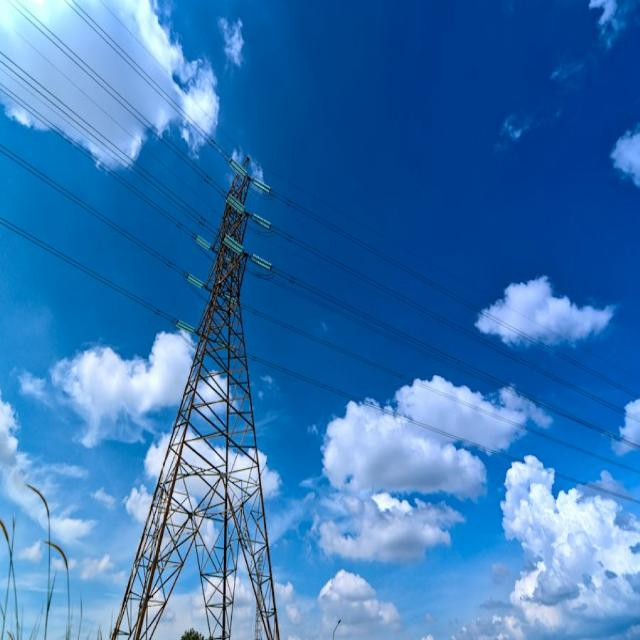transmission tower: (150, 141, 296, 640)
